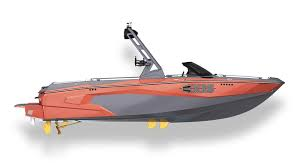boat: (14, 22, 286, 138)
